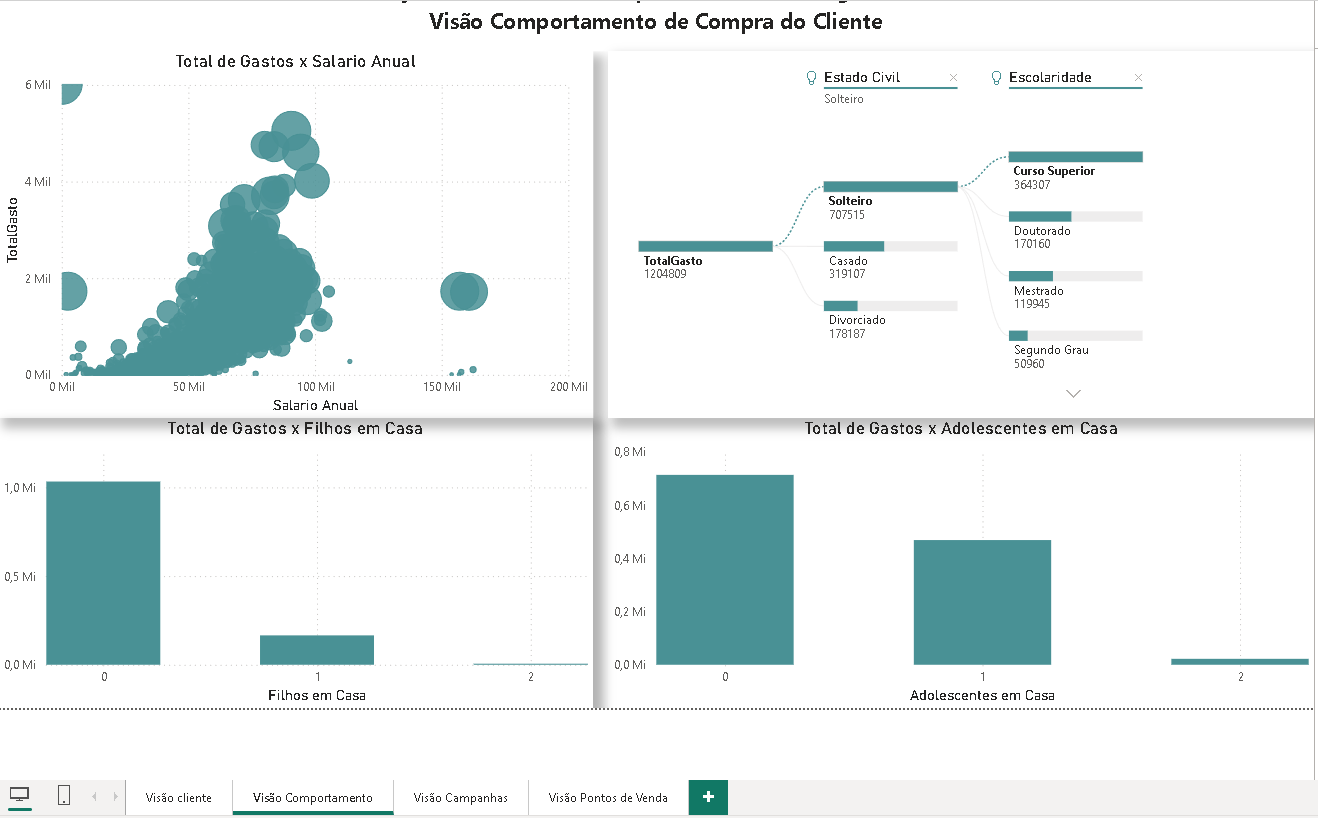

Layout of this report page (visuals, bound fields, positions):
{"tool":"powerbi","page":{"name":"Visão Comportamento","canvas":[1280,720],"ordinal":1},"visuals":[{"type":"scatterChart","title":"Total de Gastos x Salario Anual","fields":{"X":["DadosMarketing.Salario Anual"],"Size":["Sum(DadosMarketing.Gasto com Moveis)"],"Y":["DadosMarketing.TotalGasto"]},"box":[0,80.7,578.7,357],"z":0},{"type":"clusteredColumnChart","title":"Total de Gastos x Filhos em Casa","fields":{"Y":["DadosMarketing.TotalGasto"],"Category":["DadosMarketing.Filhos em Casa"]},"box":[0,437.7,578.7,282.1],"z":1000},{"type":"textbox","box":[0,0,1280,80.7],"z":2000},{"type":"clusteredColumnChart","title":"Total de Gastos x Adolescentes em Casa","fields":{"Y":["DadosMarketing.TotalGasto"],"Category":["DadosMarketing.Adolescentes em Casa"]},"box":[593.3,437.7,686.7,282.1],"z":3000},{"type":"decompositionTreeVisual","fields":{"Analyze":["DadosMarketing.TotalGasto"],"ExplainBy":["DadosMarketing.Estado Civil","DadosMarketing.Escolaridade"]},"box":[593.3,80.7,686.7,357],"z":4000}]}

Visuals, with their boxes on the page's 1280x720 design canvas (x1, y1, x2, y2). These are canvas units, not pixel positions in the 1318x818 screenshot, which may show the page scaled, cropped or inside an application window:
"Total de Gastos x Salario Anual" scatterChart: (x1=0, y1=81, x2=579, y2=438)
"Total de Gastos x Filhos em Casa" clusteredColumnChart: (x1=0, y1=438, x2=579, y2=720)
textbox: (x1=0, y1=0, x2=1280, y2=81)
"Total de Gastos x Adolescentes em Casa" clusteredColumnChart: (x1=593, y1=438, x2=1280, y2=720)
decompositionTreeVisual - DadosMarketing.TotalGasto x DadosMarketing.Estado Civil: (x1=593, y1=81, x2=1280, y2=438)
